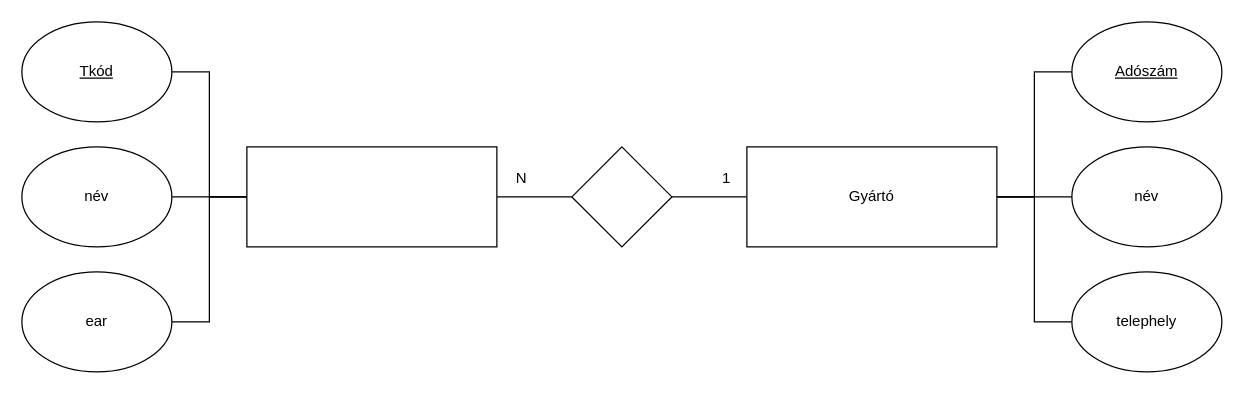
Some shapes in this 1244 by 394 pixel diagram are drawn without their labels. The shapes that lost their labels are listed below. From the top down, each one's box as (x1, y1, x2, y2) in pixels, then its label:
(246, 146, 497, 247): Termék
(571, 146, 672, 247): Gyártja
